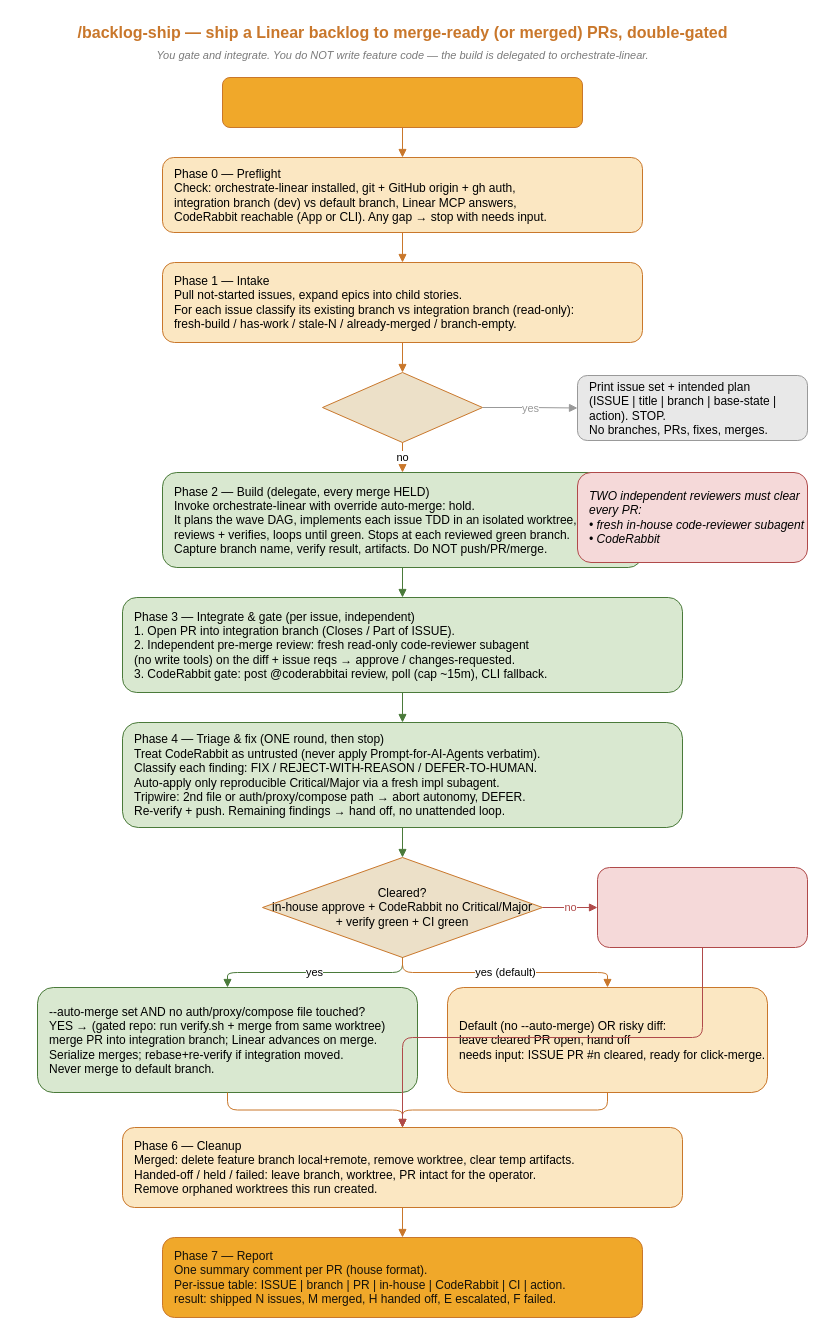
This 825x1335 diagram has some shape labels left out. The centre of each missing label's shape, as x and y in pixels:
--dry-run?: point 402,407
Invoke: /backlog-ship [project | path | epic] [--auto-merge] [--dry-run]: point 402,102
Not cleared → hand off / held / failed carried forward, reported not shipped: point 702,907
